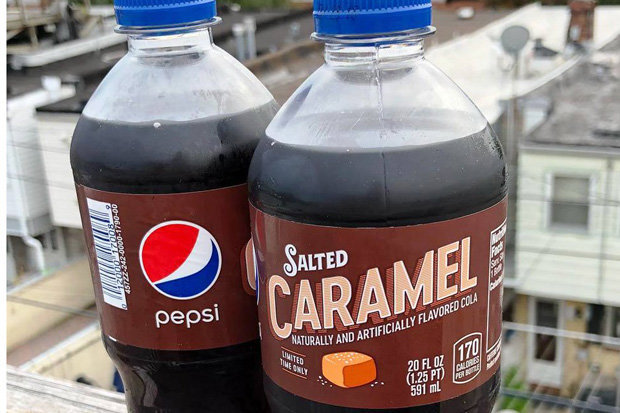pepsi: (132, 218, 222, 298), (136, 218, 222, 298)
